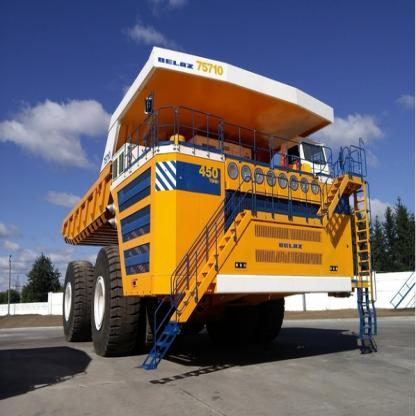dump_truck: (45, 43, 386, 358)
